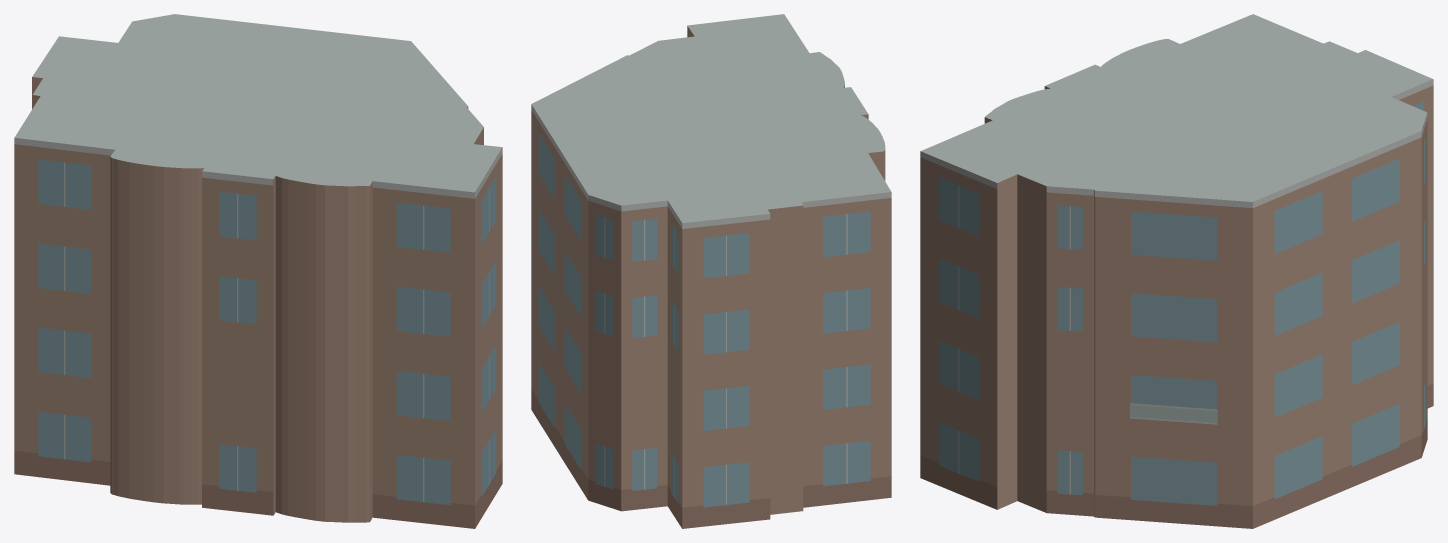
The model's file is survey-upis-32733439.glb.
3 renders of one model, left to right at view 1: azimuth 30°, elevation 25°; view 2: azimuth 150°, elevation 25°; view 3: azimuth 270°, elevation 25°, orthographic. The views are drawn at different scales.
Parts seen in each view (by area): view 1: survey-upis-32733439.tmp; view 2: survey-upis-32733439.tmp; view 3: survey-upis-32733439.tmp.
Part boxes in pixels (x1,y1,x2,y2): survey-upis-32733439.tmp: (14,14,502,528); survey-upis-32733439.tmp: (531,14,891,528); survey-upis-32733439.tmp: (920,14,1433,528).
Bounding box in the file's own units: 15.93 × 12.9 × 18.36.
